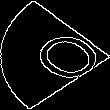O_SE: (9, 22, 101, 88)
